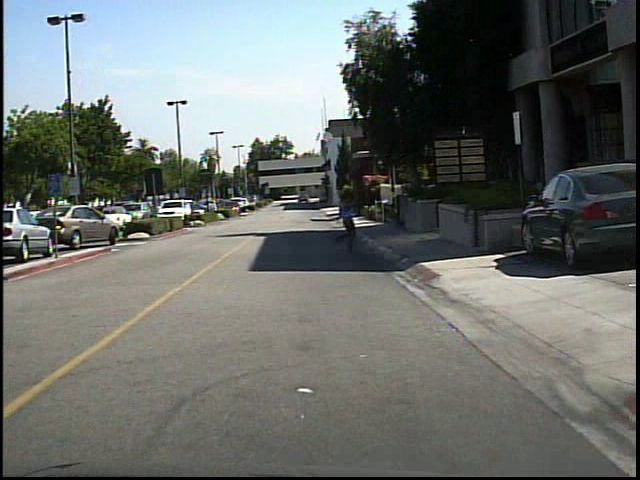person: (330, 182, 363, 253)
